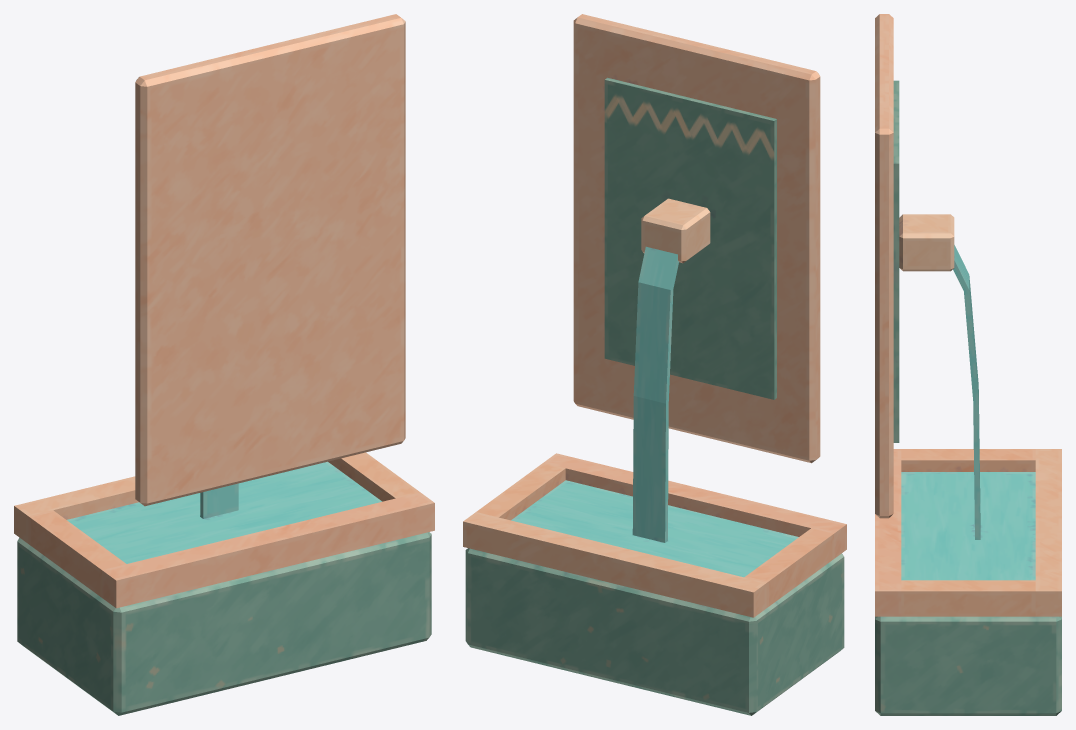
File: spout.fbx
3 views of the same model, side by side, from view 1: azimuth 30°, elevation 25°; view 2: azimuth 150°, elevation 25°; view 3: azimuth 270°, elevation 25° (orthographic). The views are drawn at different scales.
Parts seen in each view (by area): view 1: spout; view 2: spout; view 3: spout.
Boxes of the visible parts, x1=… form: spout: x1=14, y1=14, x2=434, y2=715; spout: x1=463, y1=14, x2=846, y2=715; spout: x1=875, y1=14, x2=1061, y2=715.
Bounding box in the file's own units: 3.6 × 6.8 × 2.
Materials: 1 (1 with a texture image).
